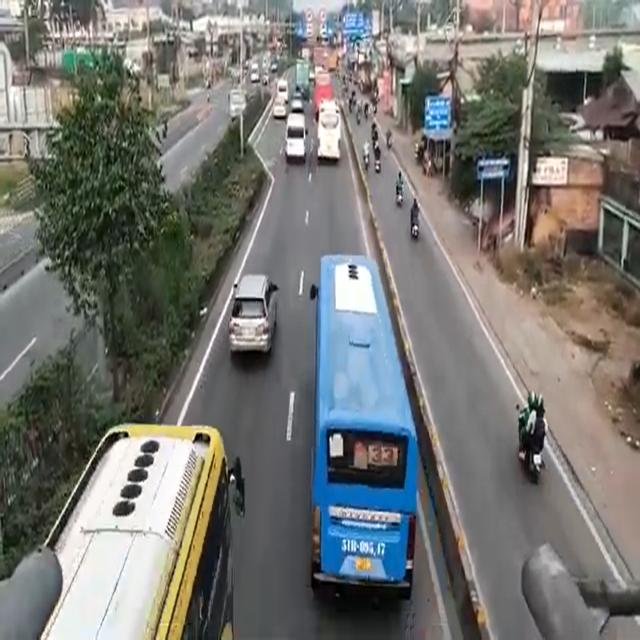bus: (38, 424, 223, 636), (317, 252, 411, 593), (317, 101, 342, 162)
car: (232, 277, 278, 359), (282, 109, 306, 166)
motor: (513, 409, 543, 478)
